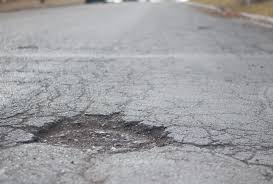pothole: (15, 102, 179, 167)
